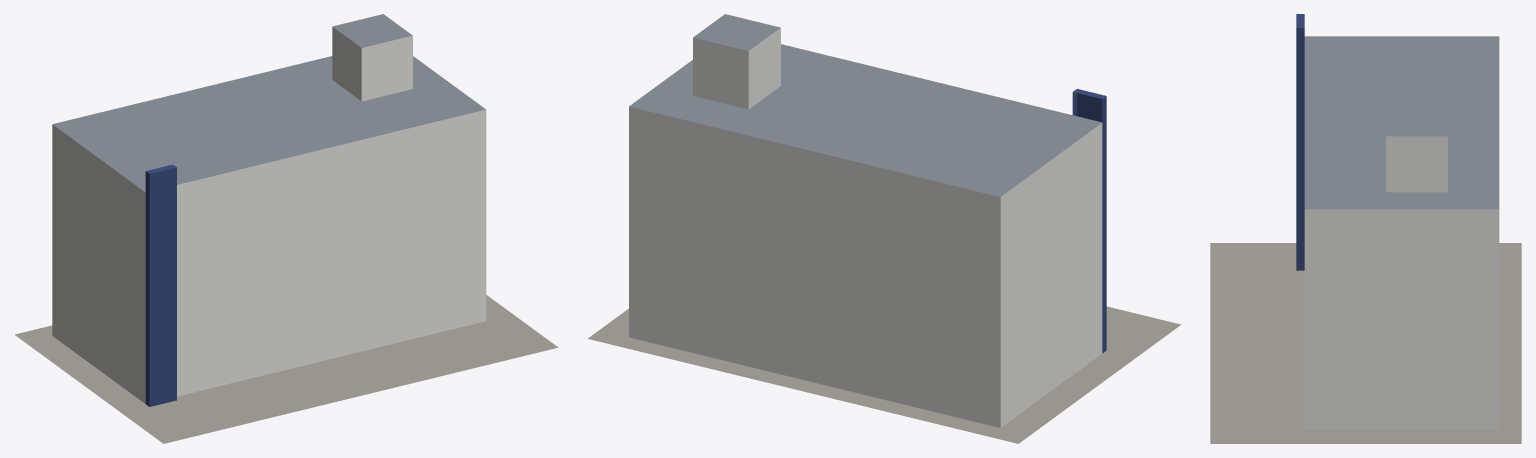
File: mashup-admin-top-prebuilt_far.fbx
3 views of the same model, side by side, from view 1: azimuth 30°, elevation 25°; view 2: azimuth 150°, elevation 25°; view 3: azimuth 270°, elevation 25° (orthographic). The views are drawn at different scales.
Visible parts, largest first — view 1: a1056/0/mashup-admin-top-prebuilt_far; view 2: a1056/0/mashup-admin-top-prebuilt_far; view 3: a1056/0/mashup-admin-top-prebuilt_far.
Part boxes in pixels (box(x1,y1,x2,y2)): a1056/0/mashup-admin-top-prebuilt_far: box(15, 14, 558, 443); a1056/0/mashup-admin-top-prebuilt_far: box(587, 14, 1180, 443); a1056/0/mashup-admin-top-prebuilt_far: box(1210, 14, 1521, 443).
Size of the model in its own units: 23.2 by 14.88 by 15.2.
